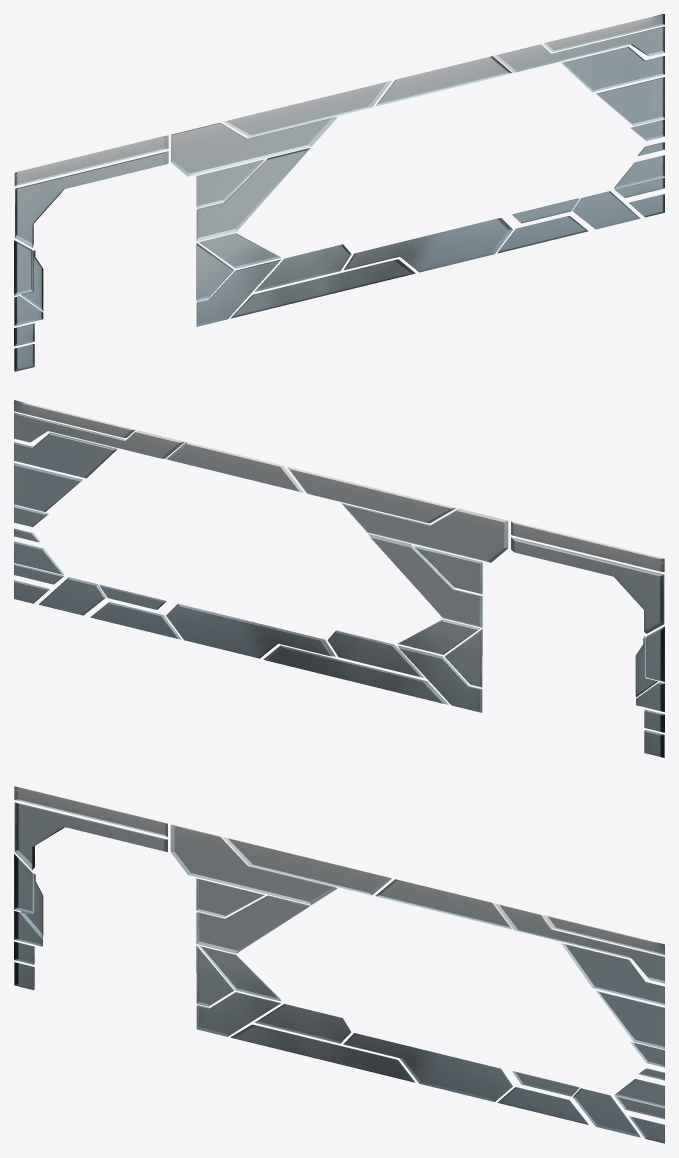
Rendered from SciFi_Conf_Room_Panel_02.FBX.
3 views of the same model, one above another, from view 1: azimuth 30°, elevation 25°; view 2: azimuth 150°, elevation 25°; view 3: azimuth 330°, elevation 25° (orthographic).
Visible parts, largest first — view 1: SciFi_Conf_Room_Panel_02; view 2: SciFi_Conf_Room_Panel_02; view 3: SciFi_Conf_Room_Panel_02.
Part boxes in pixels (bbox=[...]): SciFi_Conf_Room_Panel_02: bbox=[14, 14, 664, 371]; SciFi_Conf_Room_Panel_02: bbox=[14, 400, 664, 757]; SciFi_Conf_Room_Panel_02: bbox=[14, 786, 664, 1143].
Size of the model in its own units: 11204 by 3276 by 33.14.
Materials: 1 (1 with a texture image).
